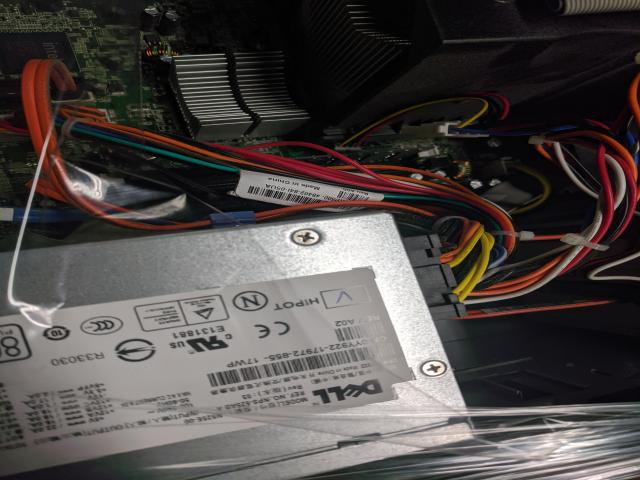CRS: (288, 227, 322, 247), (421, 360, 447, 376)
